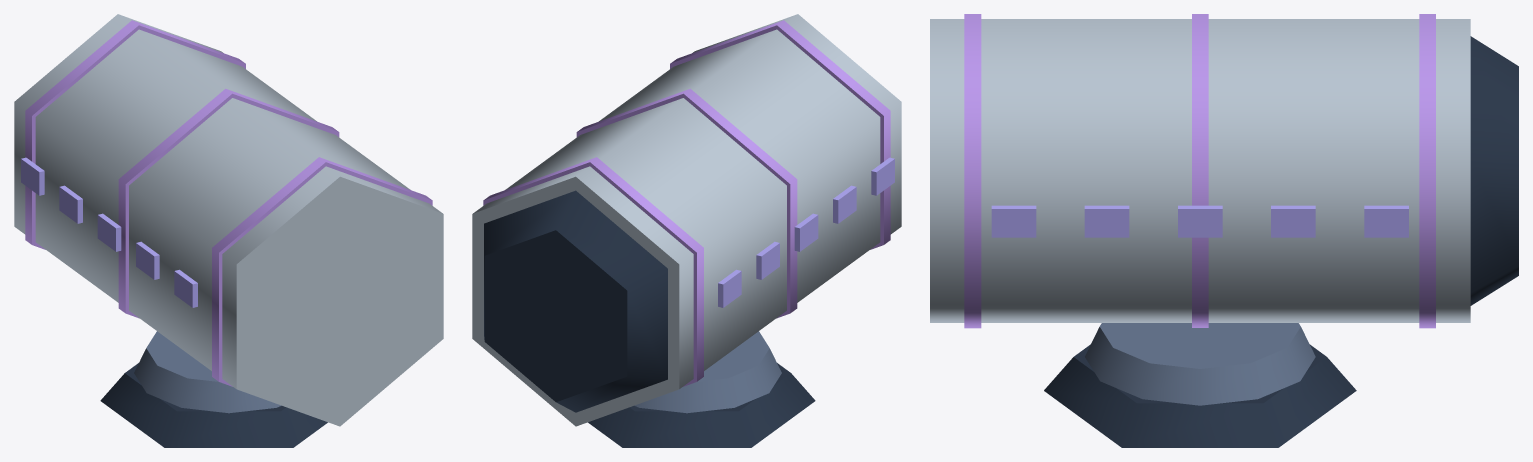
The model's file is cryogenic_hydrocarbon--habitat_pod.glb.
3 views of the same model, side by side, from view 1: azimuth 30°, elevation 25°; view 2: azimuth 150°, elevation 25°; view 3: azimuth 270°, elevation 25° (orthographic). The views are drawn at different scales.
Parts seen in each view (by area): view 1: sealed_pod_3, mount_adapter_1, rotation_bearing_2, containment_band_6, containment_band_5, containment_band_4, habitat_view_port_10, habitat_view_port_8, habitat_view_port_12, habitat_view_port_9, habitat_view_port_11; view 2: sealed_pod_3, pod_end_7, mount_adapter_1, rotation_bearing_2, containment_band_4, containment_band_5, containment_band_6, habitat_view_port_10, habitat_view_port_12, habitat_view_port_8, habitat_view_port_9, habitat_view_port_11; view 3: sealed_pod_3, rotation_bearing_2, mount_adapter_1, pod_end_7, containment_band_6, containment_band_4, containment_band_5, habitat_view_port_16, habitat_view_port_17, habitat_view_port_13, habitat_view_port_14, habitat_view_port_15.
Boxes of the visible parts, <box> form: sealed_pod_3: <box>14,14,443,426</box>; mount_adapter_1: <box>100,363,327,447</box>; rotation_bearing_2: <box>134,331,281,413</box>; containment_band_6: <box>212,157,432,386</box>; containment_band_5: <box>118,88,339,318</box>; containment_band_4: <box>25,20,245,249</box>; habitat_view_port_10: <box>97,213,121,251</box>; habitat_view_port_8: <box>21,157,44,195</box>; habitat_view_port_12: <box>174,269,197,307</box>; habitat_view_port_9: <box>59,185,82,223</box>; habitat_view_port_11: <box>136,241,159,279</box>; sealed_pod_3: <box>472,14,901,426</box>; pod_end_7: <box>484,190,667,412</box>; mount_adapter_1: <box>588,363,815,447</box>; rotation_bearing_2: <box>634,331,781,413</box>; containment_band_4: <box>483,157,703,386</box>; containment_band_5: <box>576,88,797,318</box>; containment_band_6: <box>670,20,890,249</box>; habitat_view_port_10: <box>794,213,818,251</box>; habitat_view_port_12: <box>871,157,894,195</box>; habitat_view_port_8: <box>718,269,741,307</box>; habitat_view_port_9: <box>756,241,779,279</box>; habitat_view_port_11: <box>833,185,856,223</box>; sealed_pod_3: <box>930,19,1470,322</box>; rotation_bearing_2: <box>1085,323,1315,405</box>; mount_adapter_1: <box>1044,344,1356,447</box>; pod_end_7: <box>1470,36,1518,305</box>; containment_band_6: <box>964,14,981,328</box>; containment_band_4: <box>1419,14,1435,328</box>; containment_band_5: <box>1192,14,1208,327</box>; habitat_view_port_16: <box>1084,205,1129,237</box>; habitat_view_port_17: <box>991,205,1036,237</box>; habitat_view_port_13: <box>1364,205,1408,237</box>; habitat_view_port_14: <box>1271,205,1315,237</box>; habitat_view_port_15: <box>1178,205,1222,237</box>.
Bounding box in the file's own units: 22.08 × 26.76 × 37.92.
